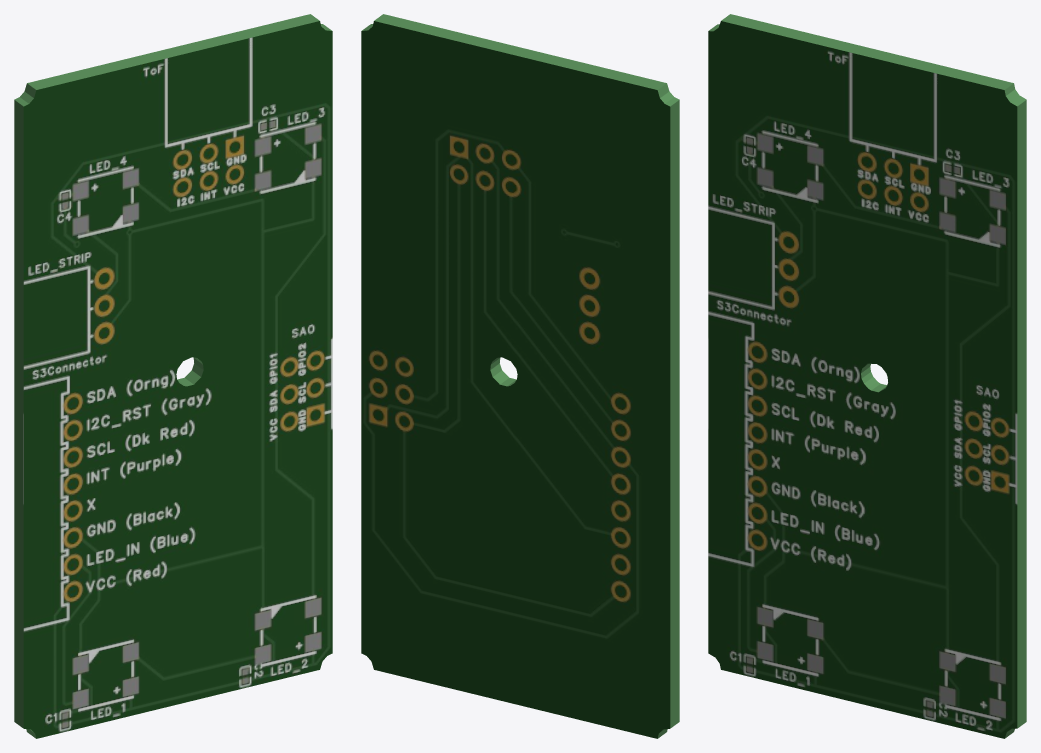
Rendered from clip-boy.glb.
3 renders of one model, left to right at view 1: azimuth 30°, elevation 25°; view 2: azimuth 150°, elevation 25°; view 3: azimuth 330°, elevation 25°, orthographic.
Parts seen in each view (by area): view 1: faces, edges; view 2: faces, edges; view 3: faces, edges.
Part boxes in pixels (box(x1,y1,x2,y2)): faces: box(23, 21, 332, 738); edges: box(14, 14, 331, 738); faces: box(361, 21, 670, 738); edges: box(362, 14, 679, 738); faces: box(708, 21, 1017, 738); edges: box(709, 14, 1026, 738).
Bounding box in the file's own units: 0.0301 × 0.0604 × 0.0016.
Materials: 2 (1 with a texture image).
